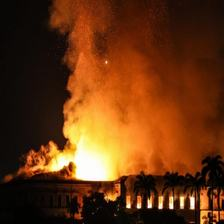fire: (30, 48, 182, 185)
